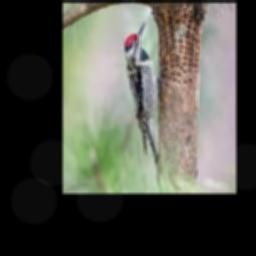Woodpecker: (125, 20, 159, 166)
